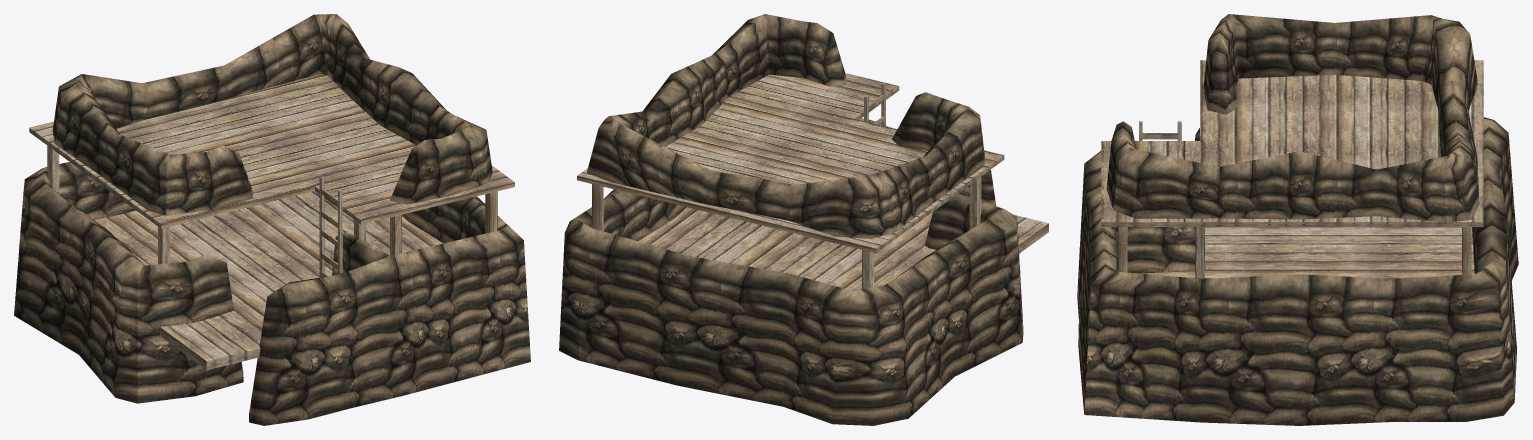
The model's file is Bnkr07.glb.
3 views of the same model, side by side, from view 1: azimuth 30°, elevation 25°; view 2: azimuth 150°, elevation 25°; view 3: azimuth 270°, elevation 25° (orthographic). The views are drawn at different scales.
Visible parts, largest first — view 1: _Bnkr07; view 2: _Bnkr07; view 3: _Bnkr07.
Part boxes in pixels (left/top/right/bottom): _Bnkr07: left=14, top=14, right=530, bottom=425; _Bnkr07: left=559, top=14, right=1048, bottom=425; _Bnkr07: left=1077, top=14, right=1518, bottom=425.
Size of the model in its own units: 8.98 by 5.35 by 8.65.
2 materials, 2 textured.
